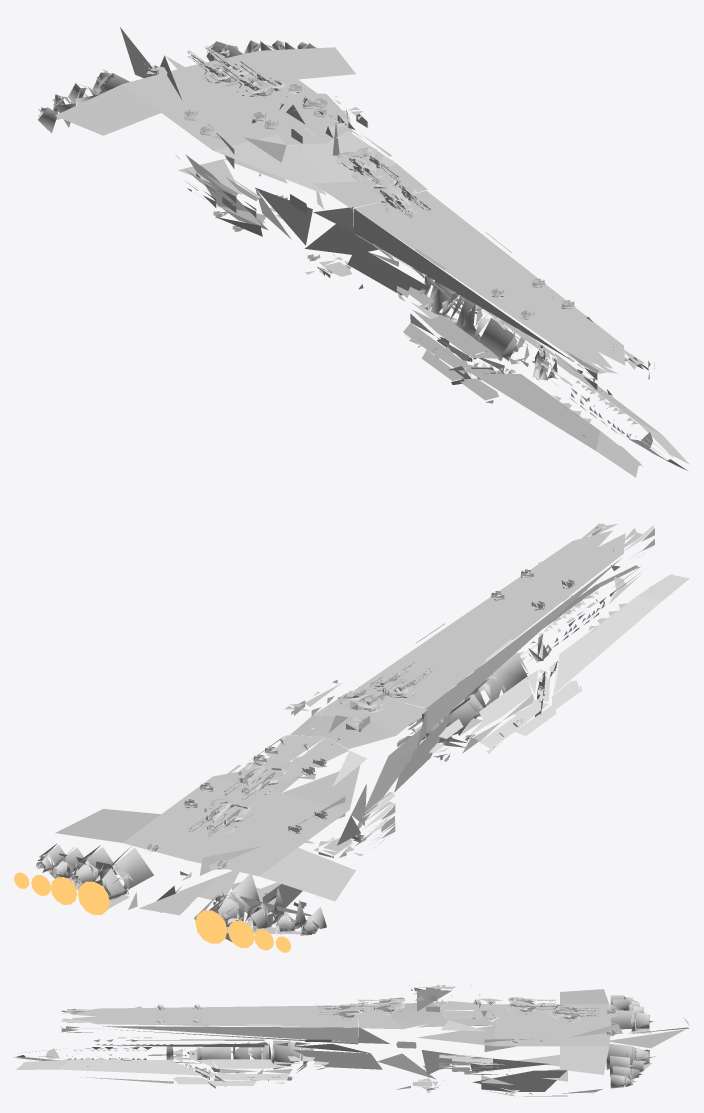
Rendered from dreadnought_chunks.glb.
The picture shows the model from 3 angles, top to bottom: view 1: azimuth 30°, elevation 25°; view 2: azimuth 150°, elevation 25°; view 3: azimuth 270°, elevation 25°; orthographic projection. The views are drawn at different scales.
Visible parts, largest first — view 1: chunk_14, chunk_06, chunk_31, chunk_28, chunk_08, chunk_26, chunk_11, chunk_02, chunk_25, chunk_22, chunk_00, chunk_01 (+10 smaller); view 2: chunk_14, chunk_06, chunk_31, chunk_28, chunk_01, chunk_08, chunk_02, chunk_18, chunk_26, chunk_17, chunk_11, chunk_00 (+14 smaller); view 3: chunk_14, chunk_08, chunk_11, chunk_00, chunk_01, chunk_02, chunk_31, chunk_12, chunk_03, chunk_22, chunk_06, chunk_15 (+16 smaller).
Boxes of the visible parts, bbox=[...] form: chunk_14: bbox=[323, 224, 531, 400]; chunk_06: bbox=[113, 84, 302, 210]; chunk_31: bbox=[465, 276, 654, 391]; chunk_28: bbox=[289, 194, 493, 316]; chunk_08: bbox=[298, 162, 490, 257]; chunk_26: bbox=[485, 388, 689, 477]; chunk_11: bbox=[486, 324, 661, 434]; chunk_02: bbox=[190, 41, 348, 116]; chunk_25: bbox=[178, 155, 352, 277]; chunk_22: bbox=[319, 131, 450, 210]; chunk_00: bbox=[453, 229, 566, 304]; chunk_01: bbox=[244, 40, 393, 161]; chunk_14: bbox=[370, 653, 580, 806]; chunk_06: bbox=[243, 769, 395, 876]; chunk_31: bbox=[494, 523, 654, 631]; chunk_28: bbox=[388, 611, 549, 775]; chunk_01: bbox=[14, 765, 240, 904]; chunk_08: bbox=[281, 637, 472, 777]; chunk_02: bbox=[86, 776, 220, 897]; chunk_18: bbox=[158, 873, 307, 938]; chunk_26: bbox=[580, 565, 689, 691]; chunk_17: bbox=[275, 859, 355, 952]; chunk_11: bbox=[474, 585, 599, 690]; chunk_00: bbox=[409, 580, 523, 658]; chunk_14: bbox=[182, 1039, 447, 1073]; chunk_08: bbox=[260, 1003, 455, 1048]; chunk_11: bbox=[58, 1037, 239, 1080]; chunk_00: bbox=[137, 1015, 357, 1047]; chunk_01: bbox=[439, 1046, 649, 1093]; chunk_02: bbox=[484, 1024, 689, 1060]; chunk_31: bbox=[61, 1004, 227, 1032]; chunk_12: bbox=[396, 1050, 567, 1096]; chunk_03: bbox=[440, 1003, 528, 1046]; chunk_22: bbox=[325, 1004, 447, 1047]; chunk_06: bbox=[437, 998, 608, 1025]; chunk_15: bbox=[126, 1067, 293, 1088].
Bounding box in the file's own units: 140 × 72.65 × 425.
